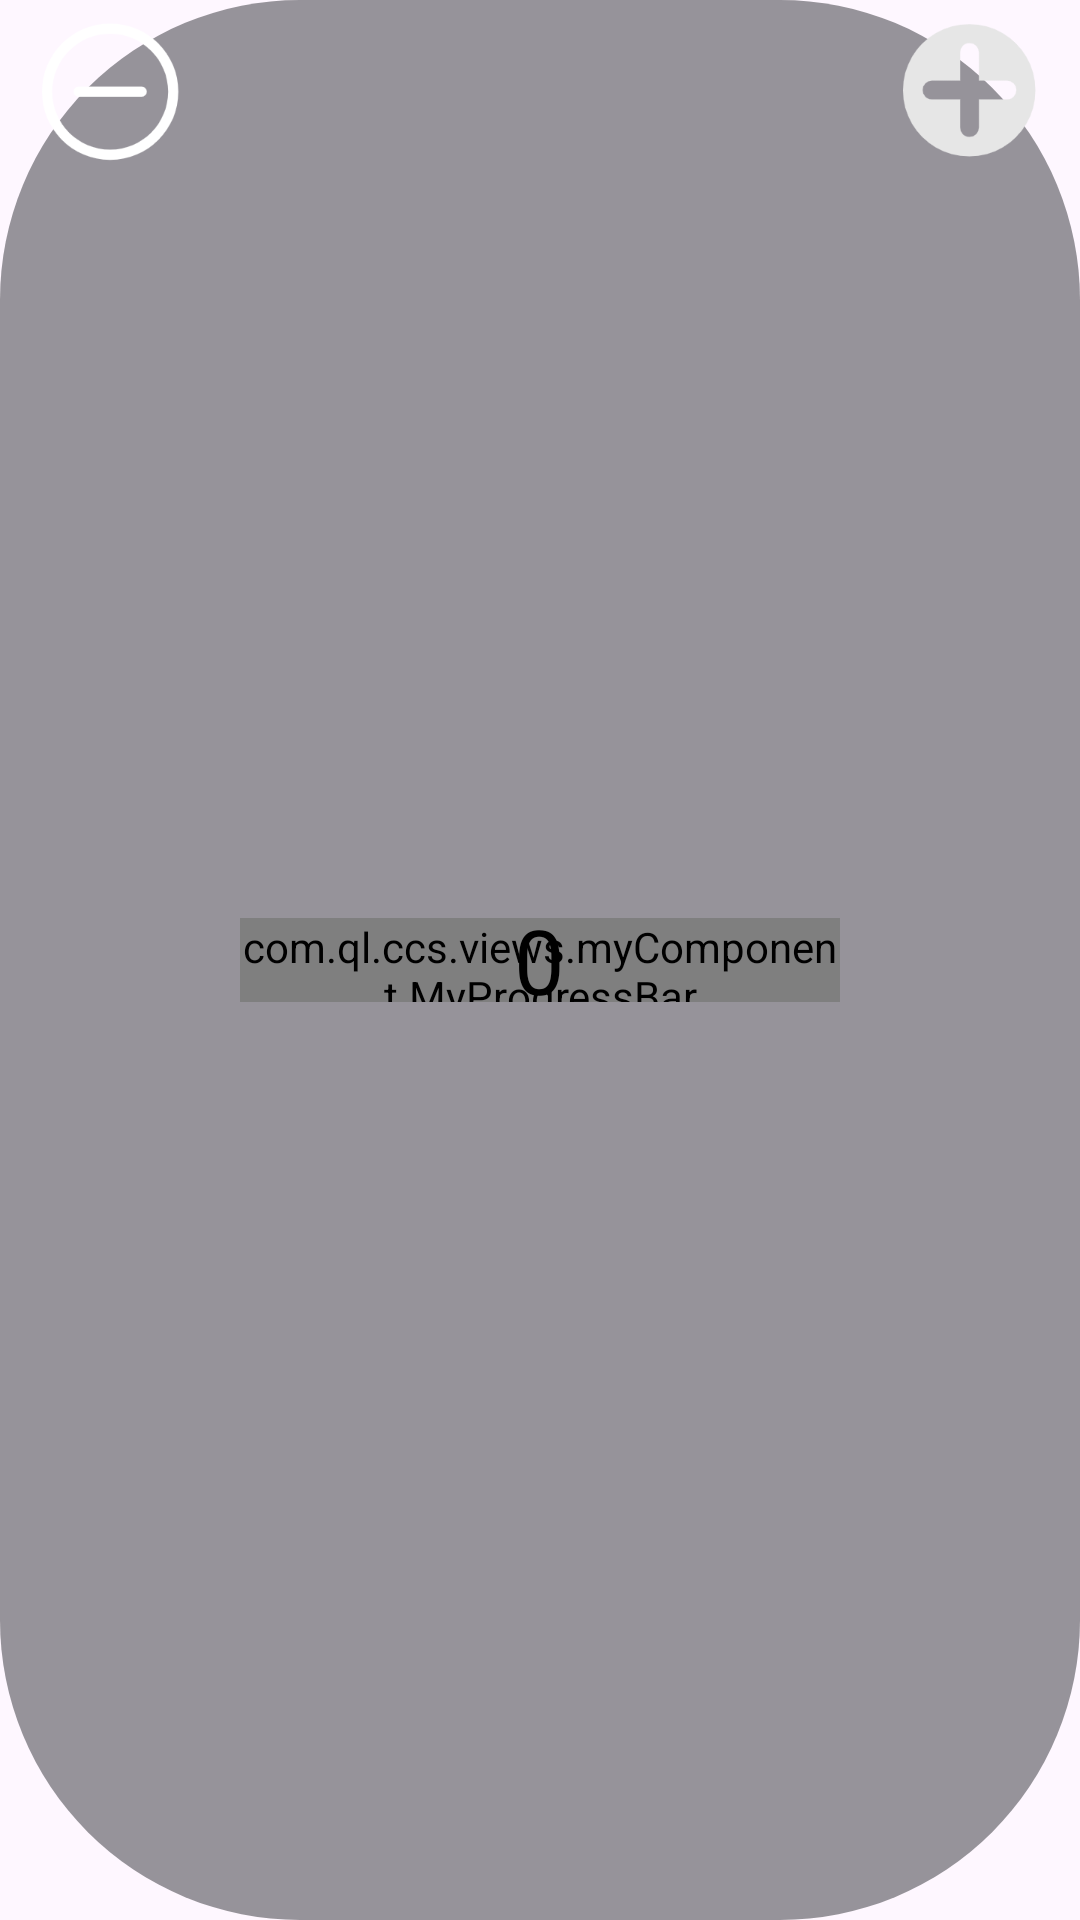

Point at icon controls on the screen. Image size 1080 x 1920, points as [x,y].
increase: [969,90]
lower: [111,90]
